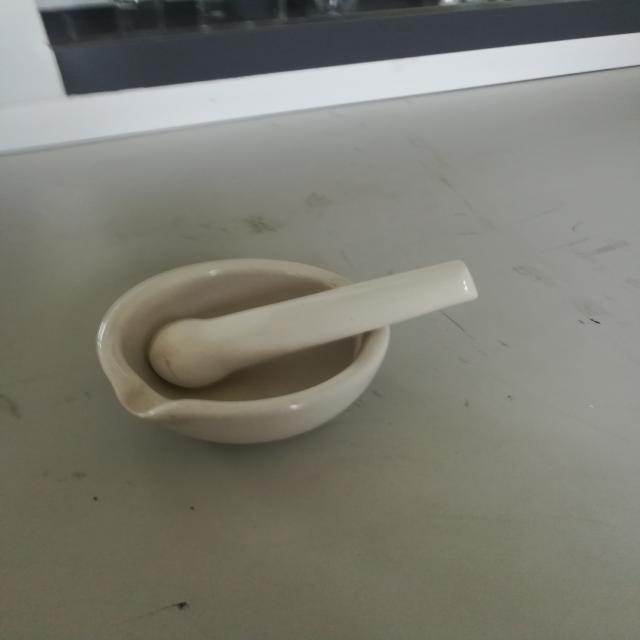Porcelain_Mortar Pestle: (41, 224, 523, 476)
